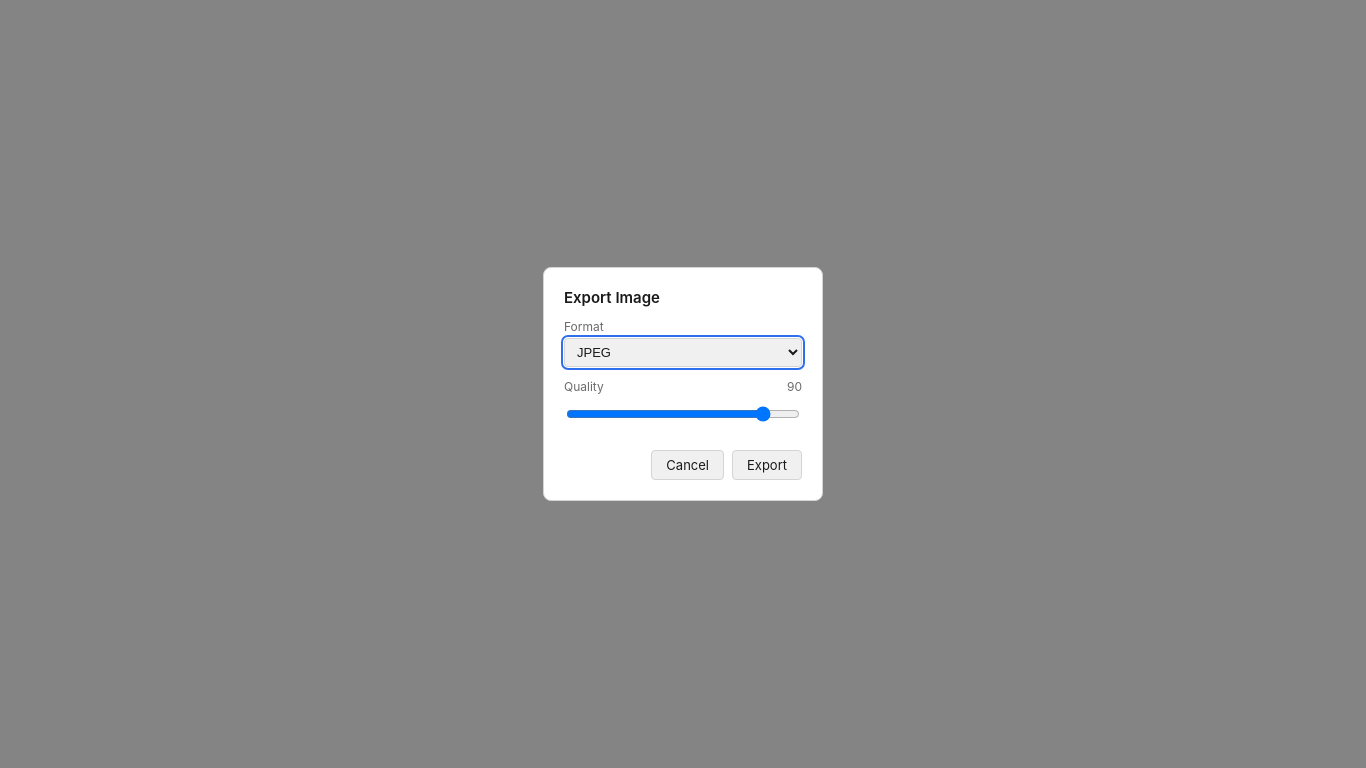
Test: ExportDialog › shows the error message inline and keeps the dialog open when export fails
Click the button "Export" at (767, 465), box [732, 450, 802, 480]
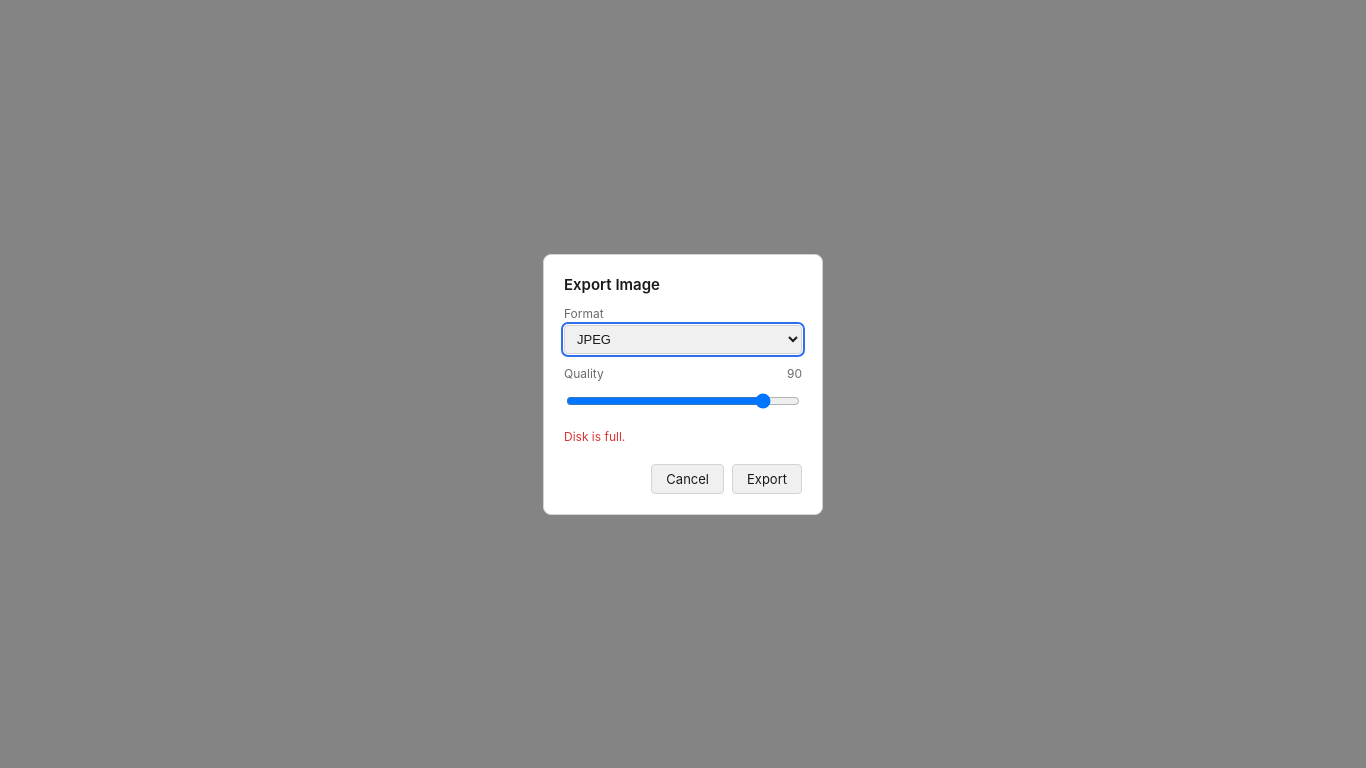
Expected: the message reads "Disk is full.", [564, 428, 625, 444]
